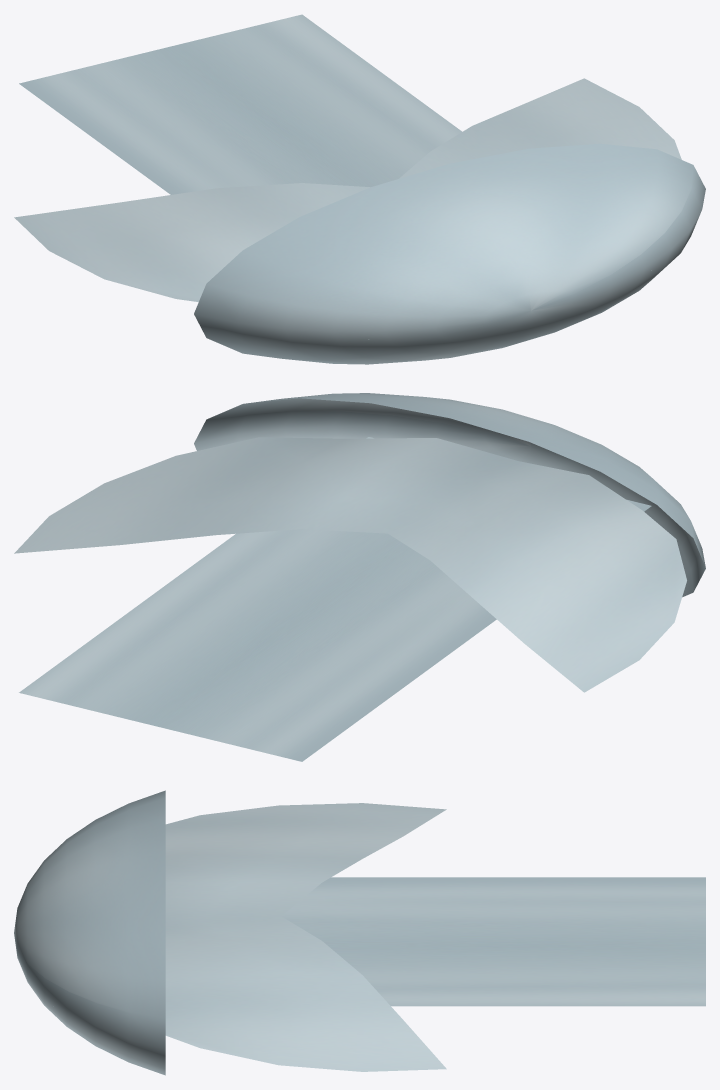
File: air_wave.fbx
The picture shows the model from 3 angles, top to bottom: view 1: azimuth 30°, elevation 25°; view 2: azimuth 150°, elevation 25°; view 3: azimuth 270°, elevation 25°; orthographic projection. The views are drawn at different scales.
Visible parts, largest first — view 1: pPlane2; view 2: pPlane2; view 3: pPlane2.
Part boxes in pixels (x1,y1,x2,y2): pPlane2: [14, 14, 705, 364]; pPlane2: [14, 393, 705, 761]; pPlane2: [14, 790, 705, 1075].
Bounding box in the file's own units: 42.9 × 12.19 × 46.64.
1 material, 1 textured.
